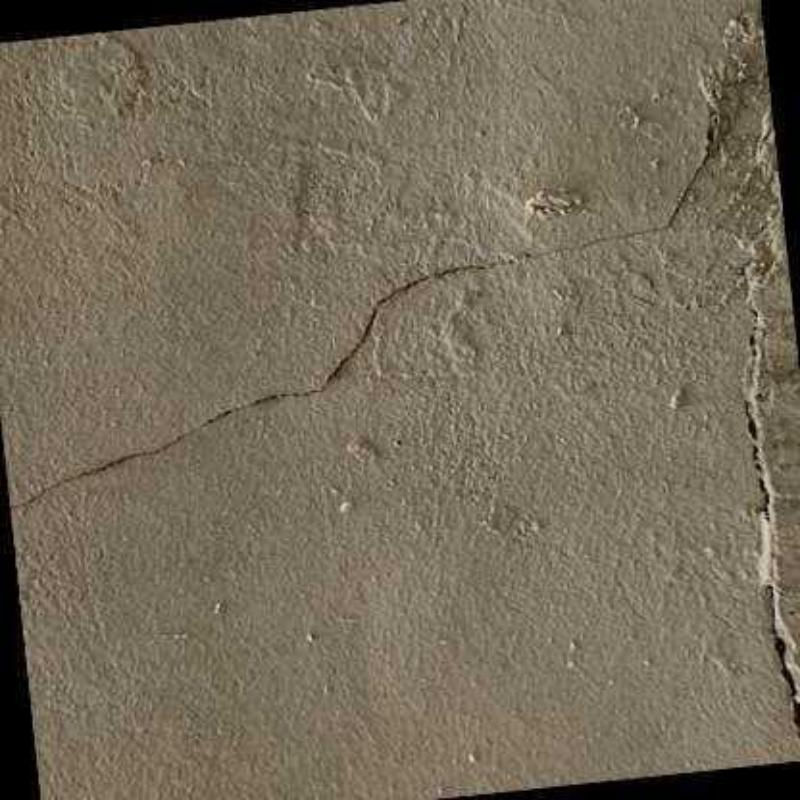crack: (10, 65, 769, 509), (739, 295, 798, 756)
